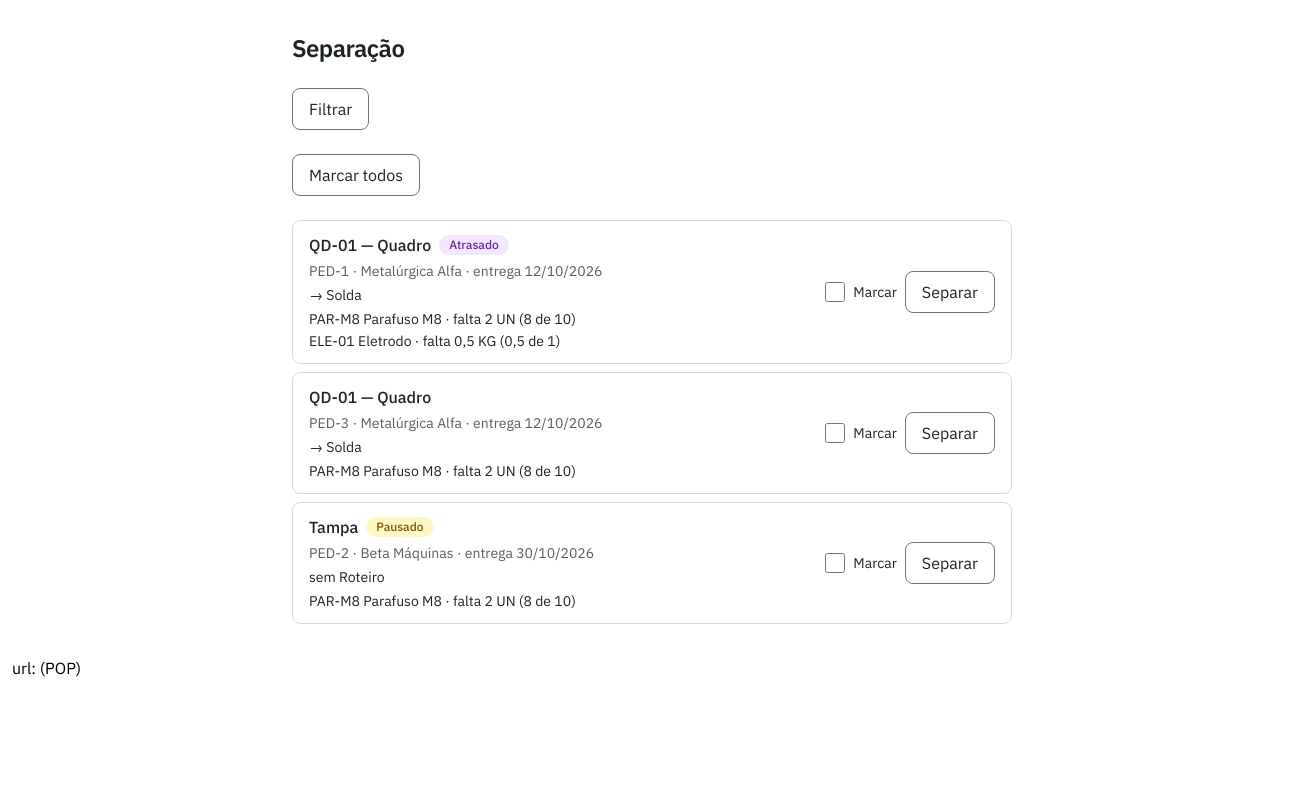
Scenario: SeparacaoPage › separar em lote › marcar o cartão mostra um campo por material pendente, preenchido com a pendência, com o aviso neutro
The image size is (1292, 800).
Click the checkbox named "Marcar QD-01 — Quadro (PED-1)".
click(835, 292)  # box [825, 282, 845, 302]
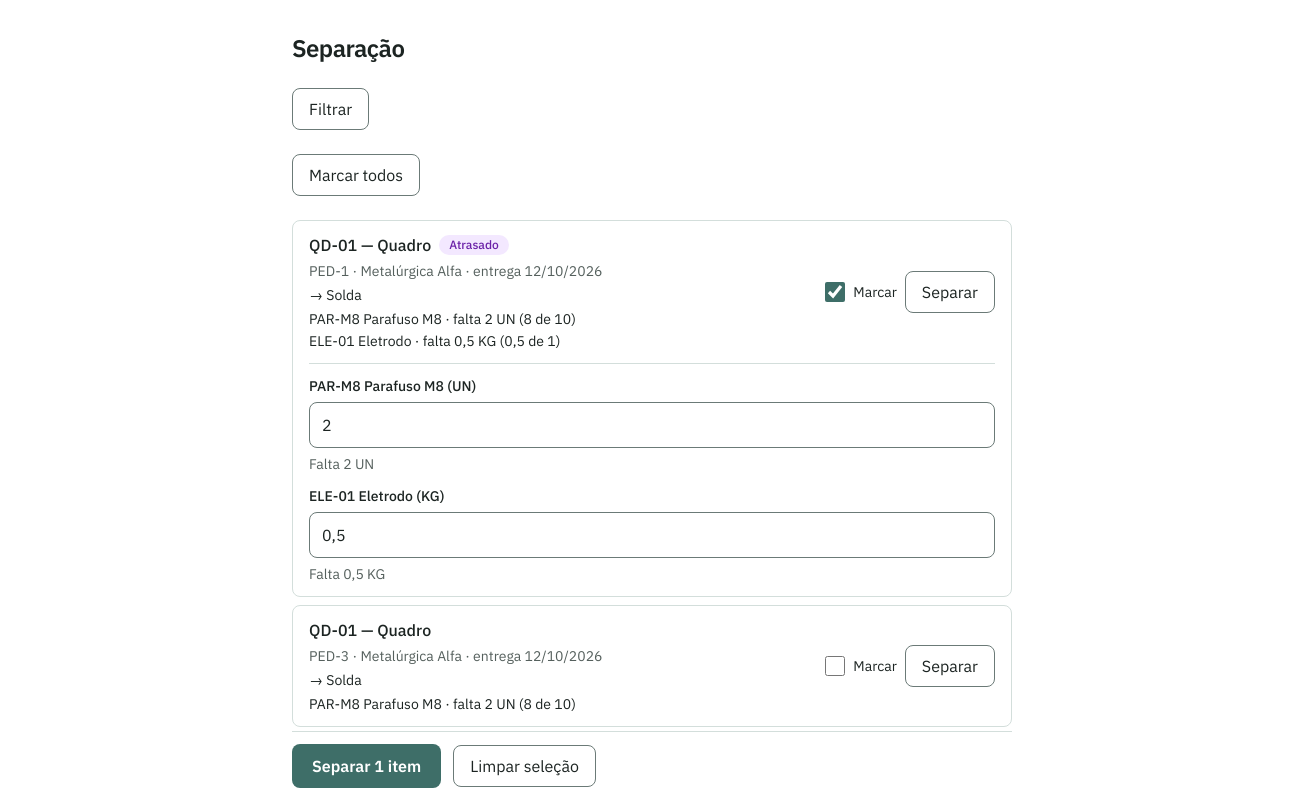
Click the checkbox named "Marcar QD-01 — Quadro (PED-3)".
click(835, 666)  # box [825, 656, 845, 676]
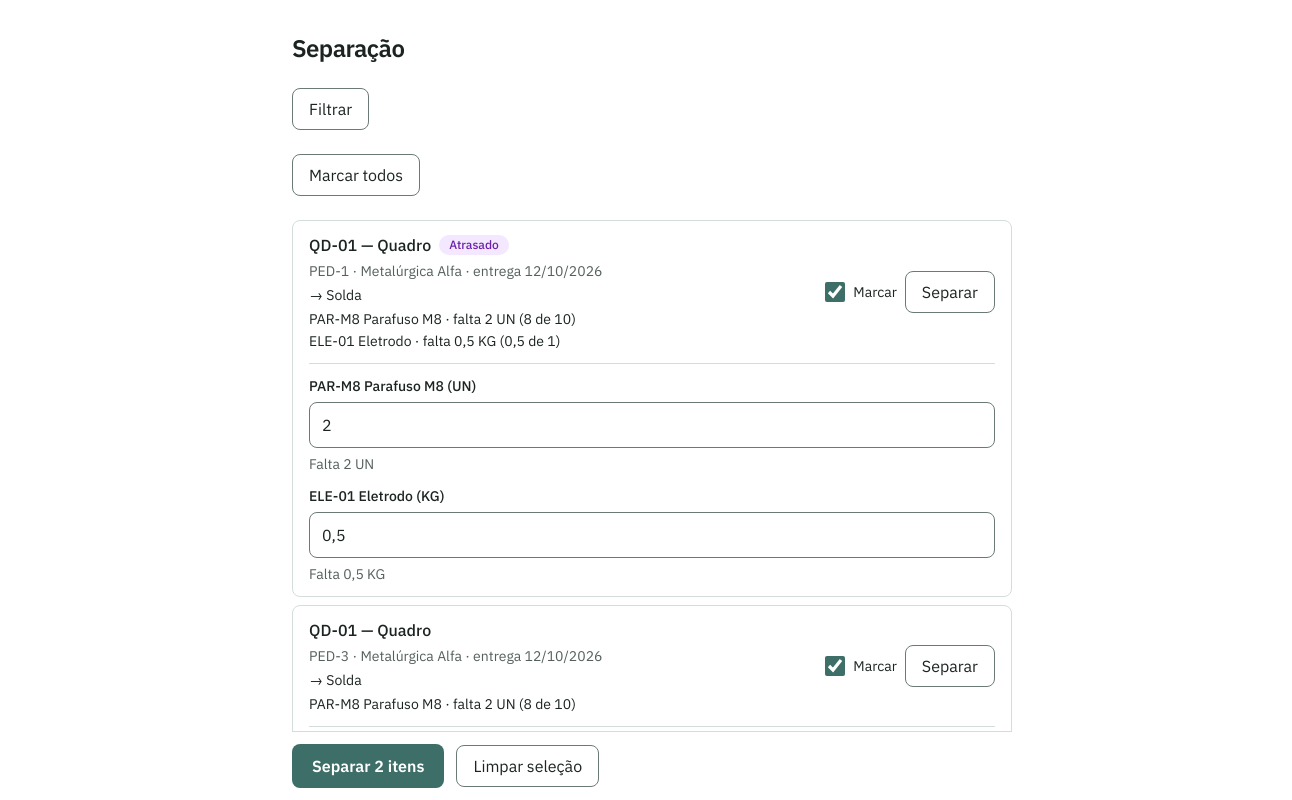
Result: the text "Falta 2 UN" is shown at [309, 455, 374, 473]
Replace the text in the field labelled "PAR-M8 Parafuso M8 (UN)" with "5" at [652, 425], box [309, 402, 995, 448]
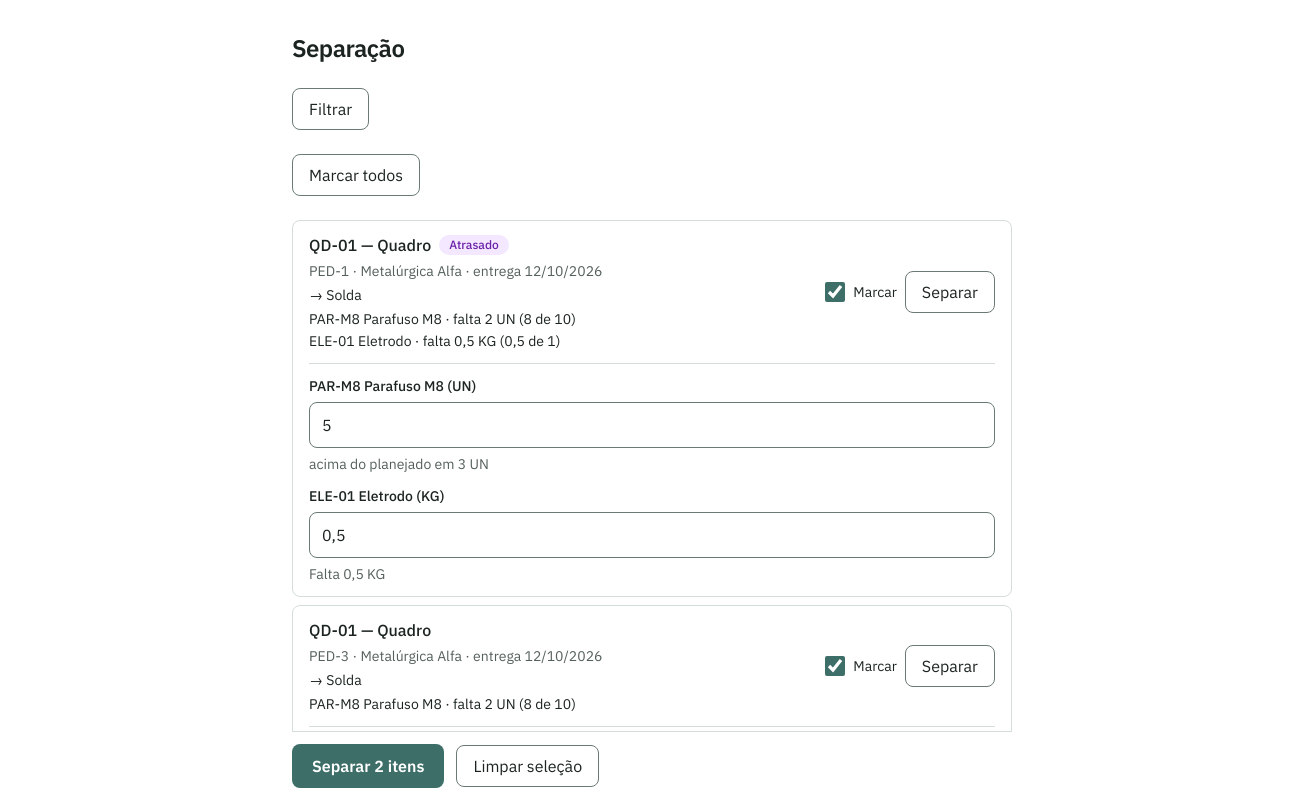
Result: the text "acima do planejado em 3 UN" is shown at [309, 455, 489, 473]
